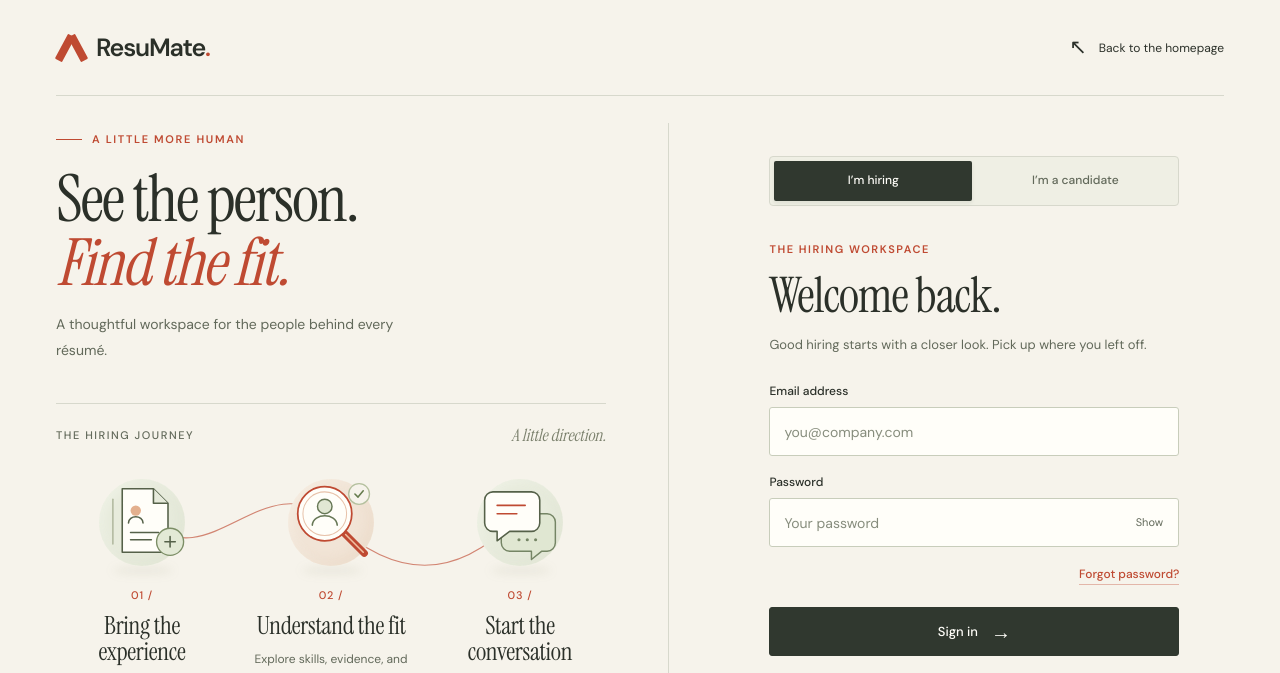
Test: when it fails › says it could not sign you in, in something a screen reader announces
Type "jane@co.com" into the field labelled "Email address".
click(974, 432); type("jane@co.com")  # box [769, 407, 1179, 456]
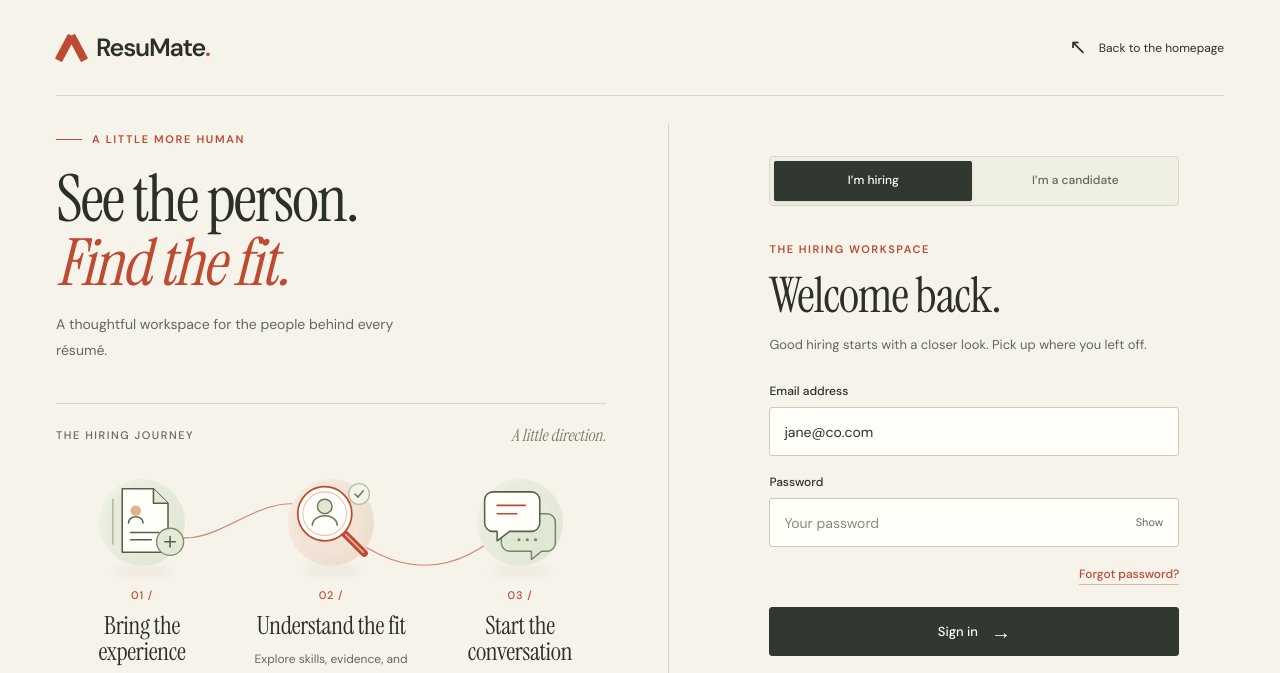
Type "hunter2hunter2" into the password field labelled "Password".
click(974, 522); type("hunter2hunter2")  # box [769, 498, 1179, 547]
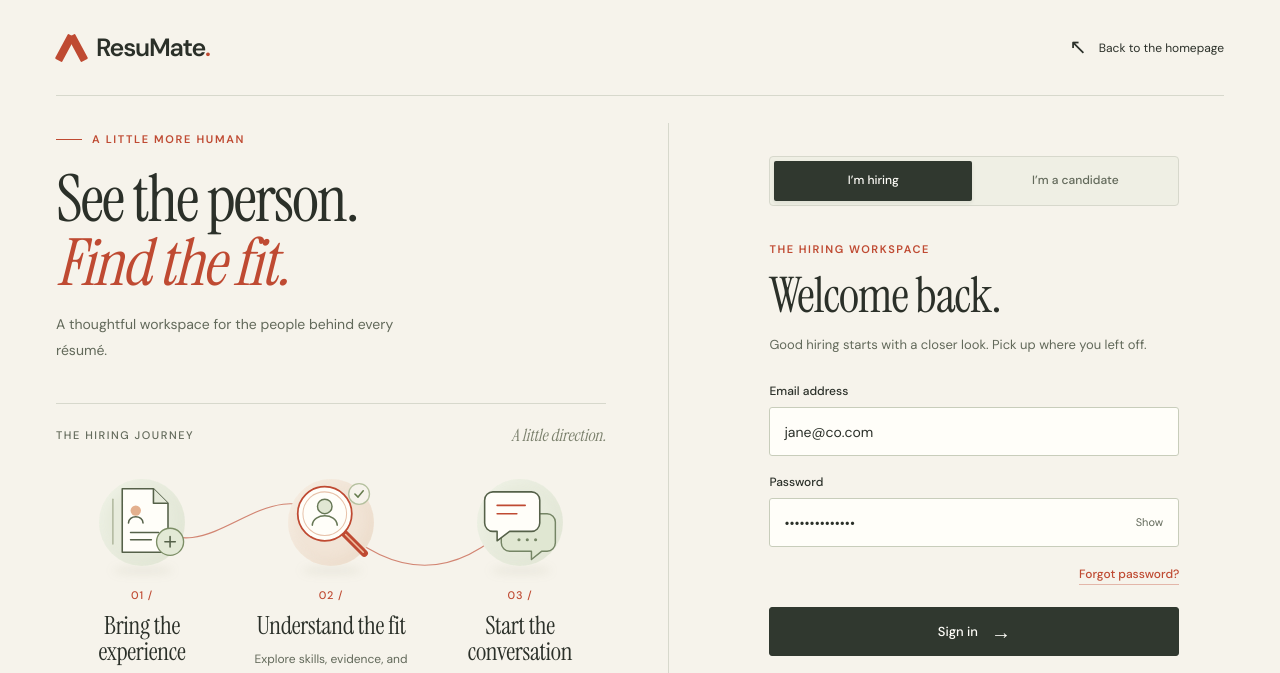
Click the button "Sign in →".
click(974, 632)  # box [769, 607, 1179, 656]
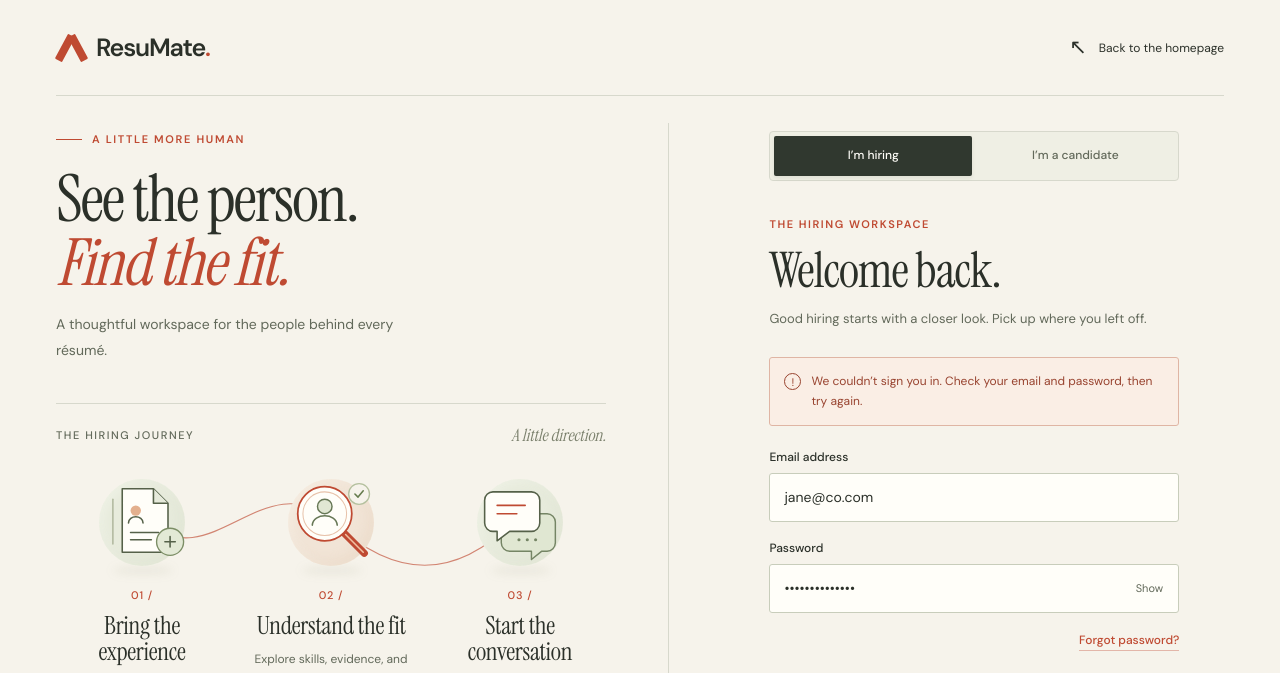
Expected: the message shows "We couldn’t sign you in. Check your email and password", [811, 373, 1152, 409]
